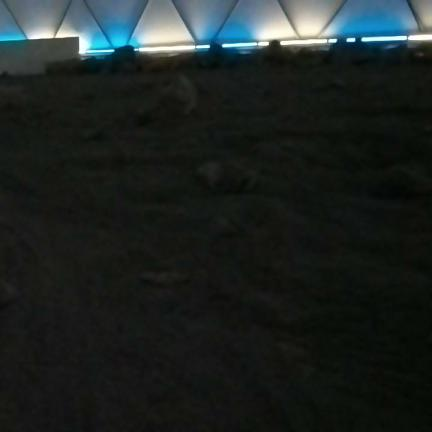Rock: (195, 161, 258, 194), (153, 75, 197, 119), (198, 44, 235, 68), (109, 45, 137, 71), (141, 272, 189, 285), (263, 40, 287, 64), (211, 217, 239, 236)
